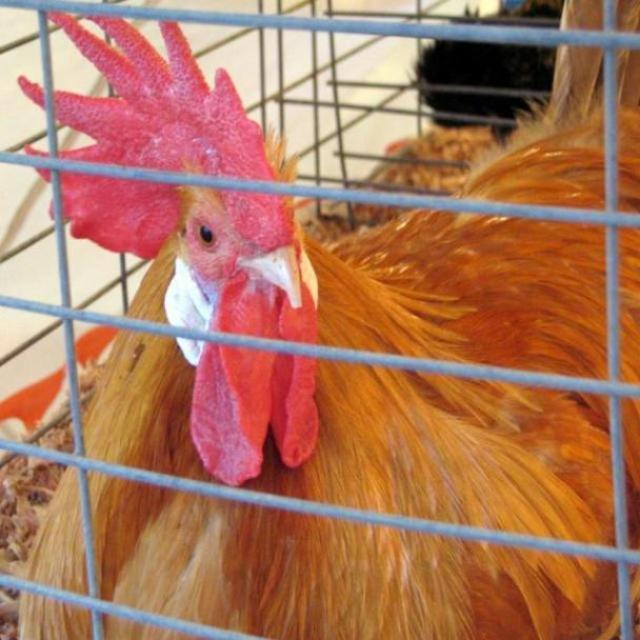Chicken: (13, 35, 630, 621)
